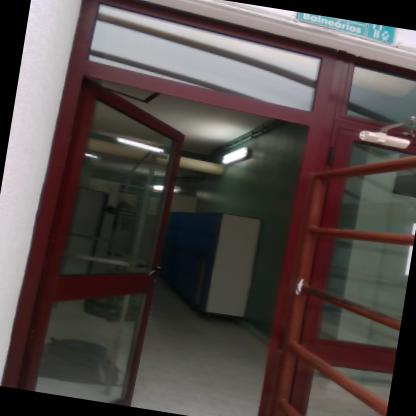open: (0, 0, 356, 415)
